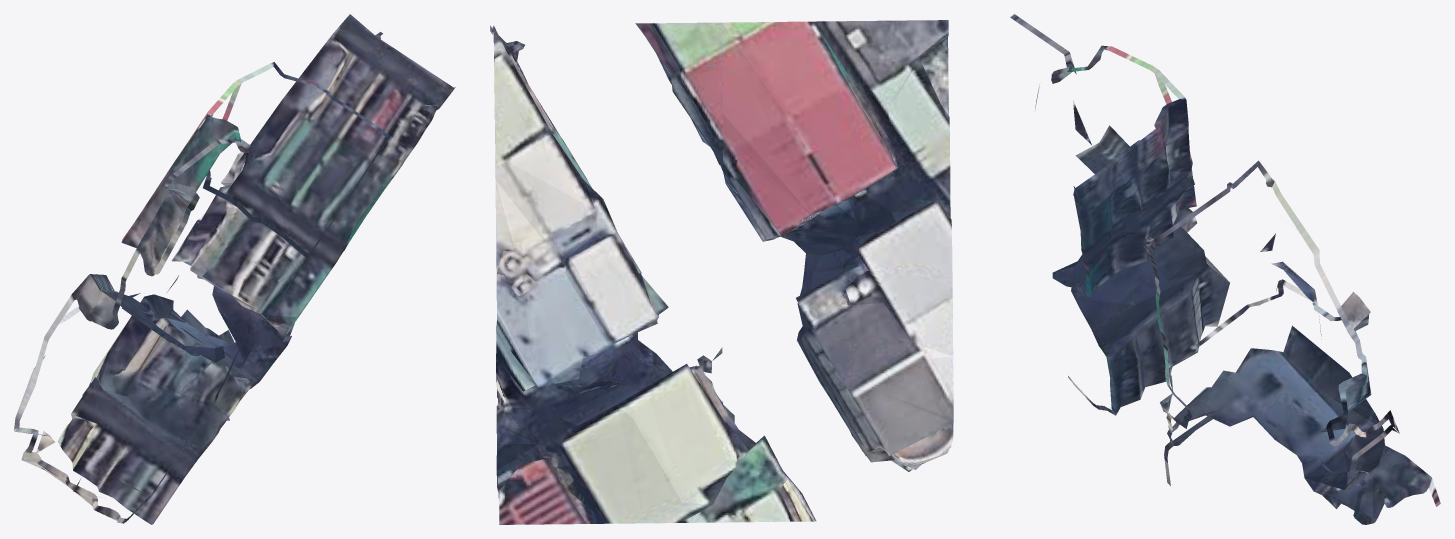
The picture shows the model from 3 angles, left to right: view 1: azimuth 30°, elevation 25°; view 2: azimuth 150°, elevation 25°; view 3: azimuth 270°, elevation 25°; orthographic projection. The views are drawn at different scales.
Size of the model in its own units: 42.12 by 39.91 by 36.3.
2 materials, 2 textured.
